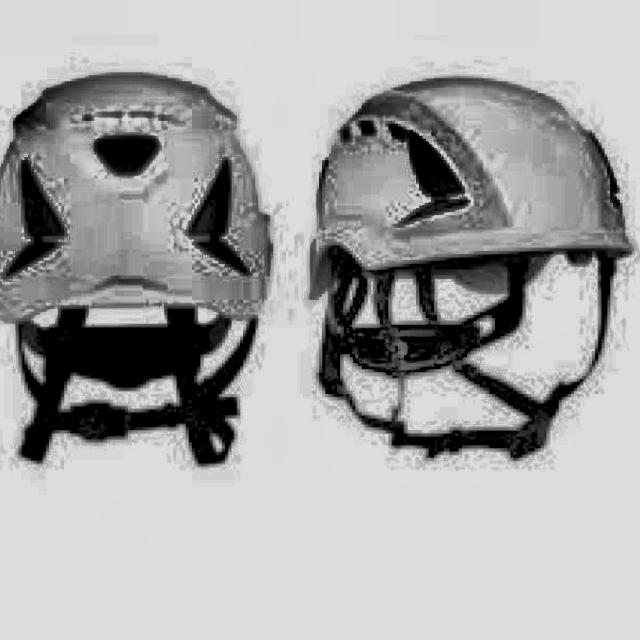Helmet: (301, 65, 625, 466), (0, 70, 272, 480)
